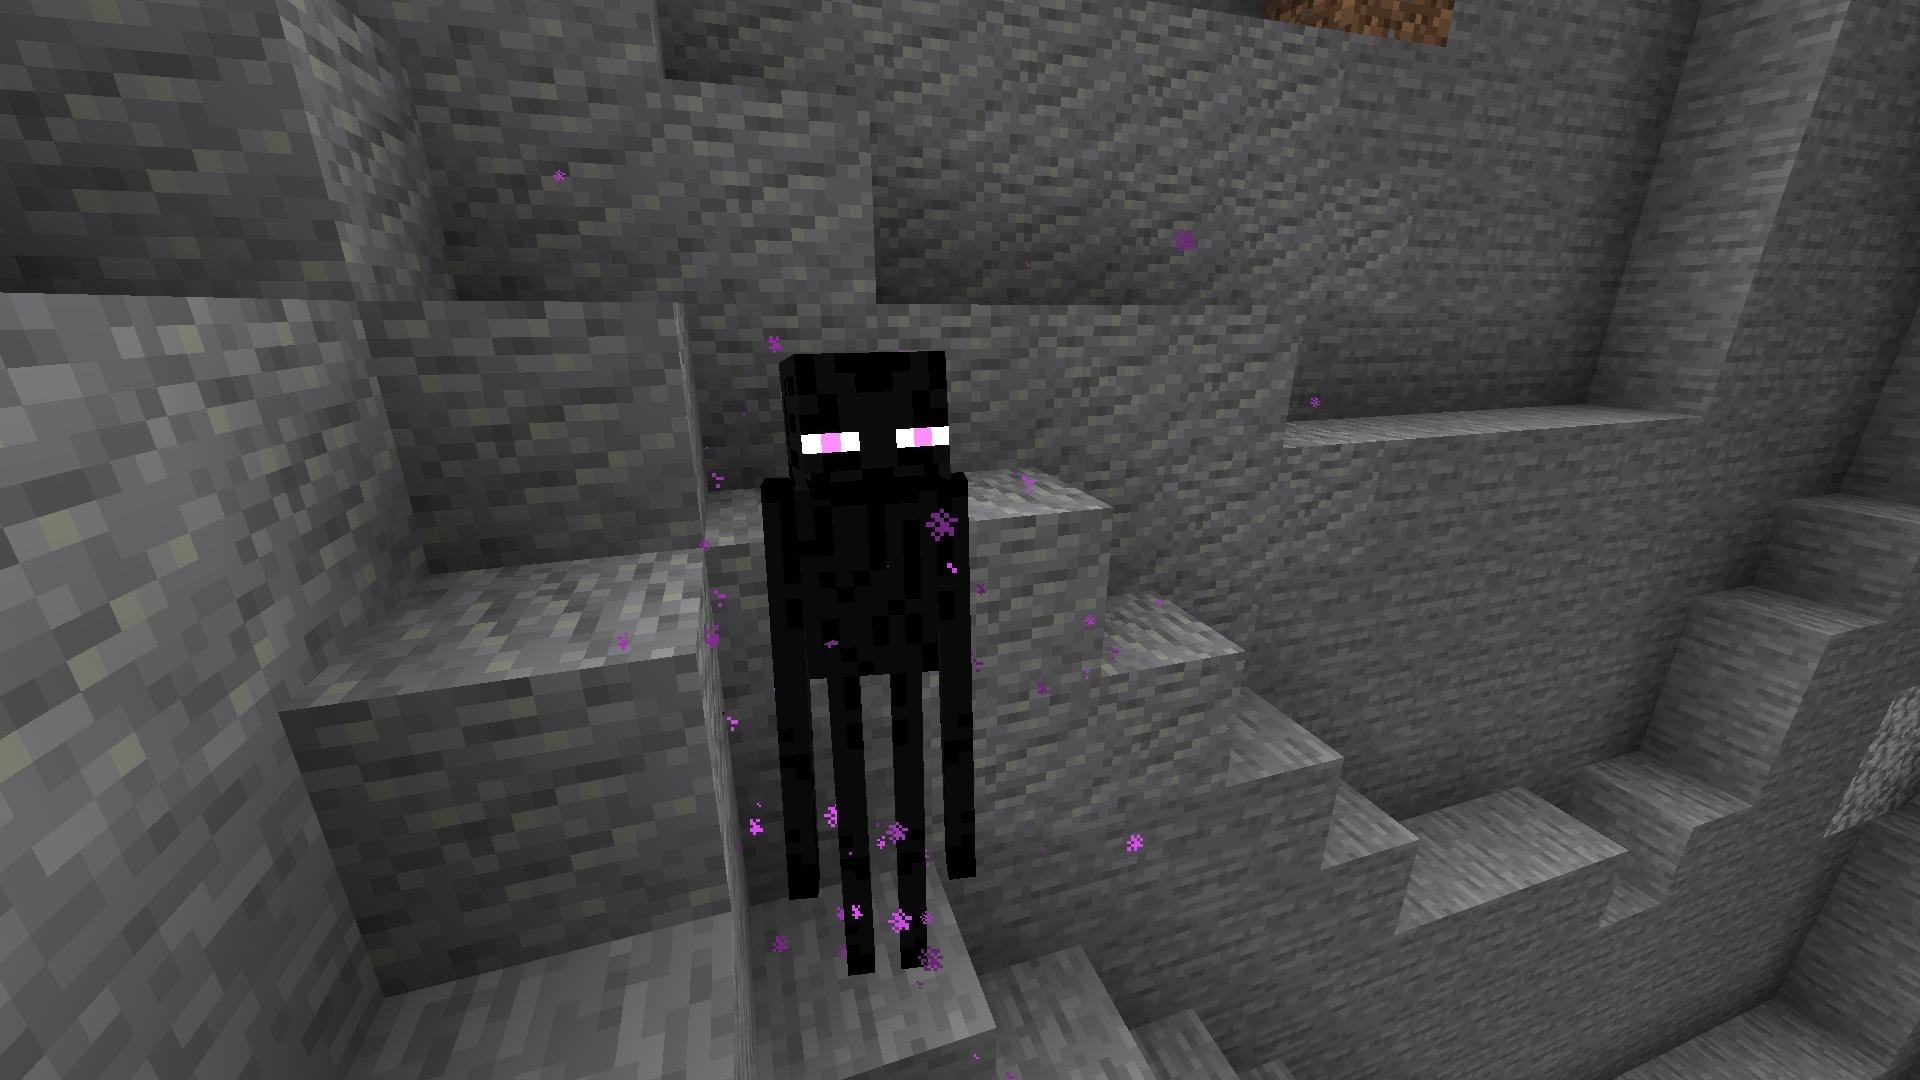enderman: (758, 339, 1014, 988)
